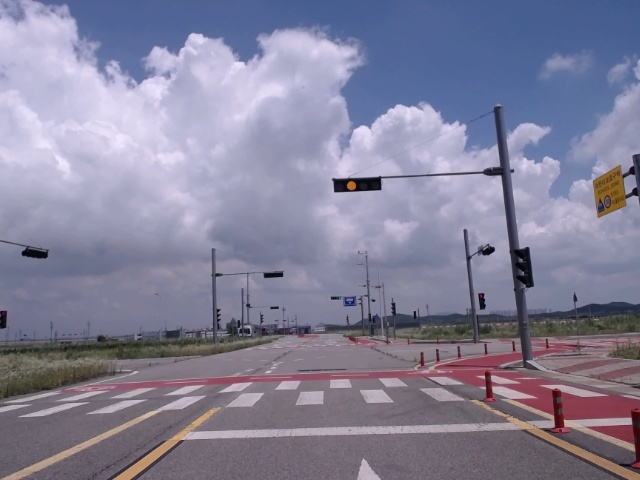orange_4: (333, 178, 382, 191)
